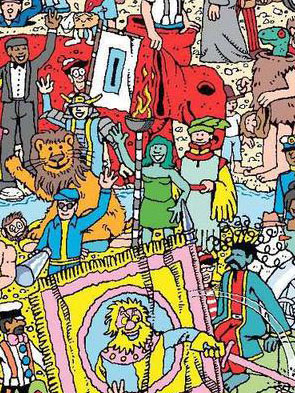waldo: (61, 55, 87, 91)
